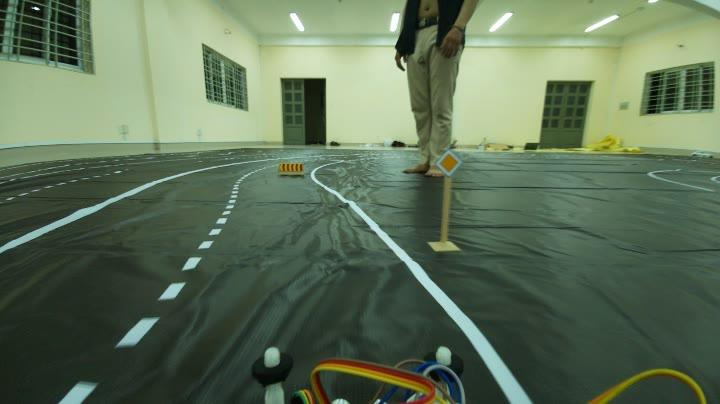priority: (434, 146, 462, 176)
roadblock: (271, 160, 315, 184)
